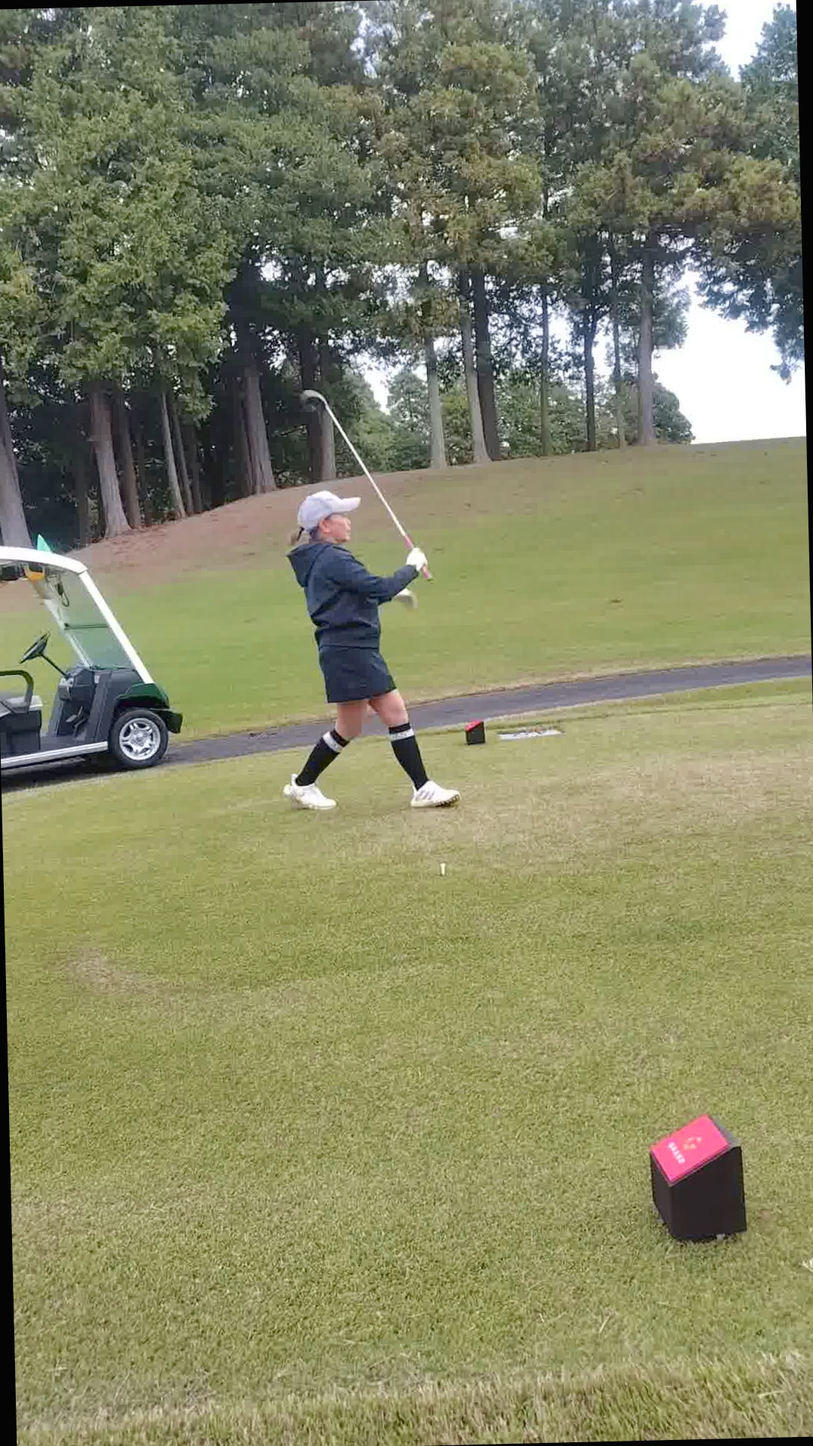clubhead: (251, 358, 391, 473)
